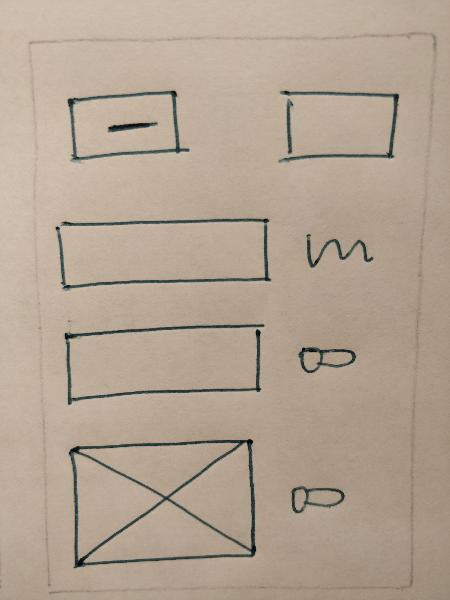button: (61, 89, 193, 166)
image: (61, 432, 262, 566)
switch: (294, 336, 361, 388), (283, 476, 350, 528)
text: (290, 217, 381, 281)
text_input: (50, 207, 274, 298), (50, 317, 273, 406), (271, 83, 403, 170)
